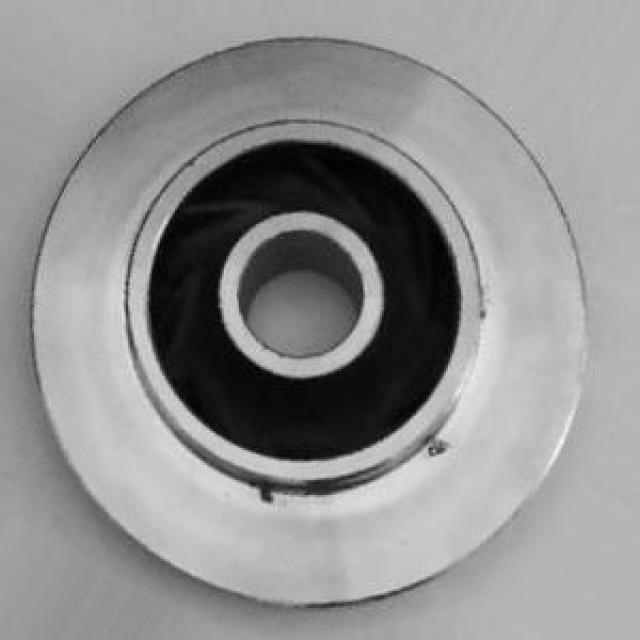Defect: (421, 431, 461, 464)
